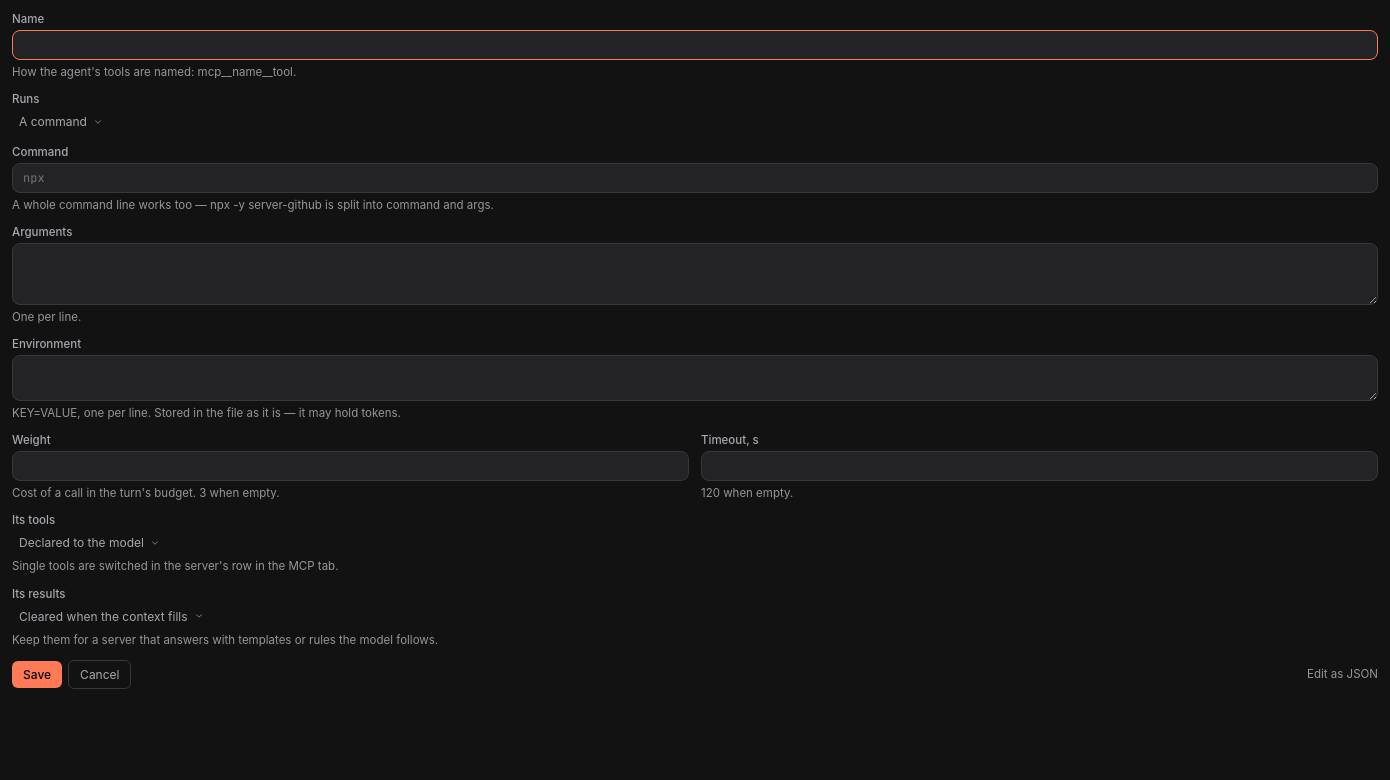
Scenario: the forms › a problem the form can see is shown, and nothing is saved
Type "fs" into the field labelled "Name How the agent's tools are named: mcp__name__tool." at (695, 45), box [12,30,1378,60]
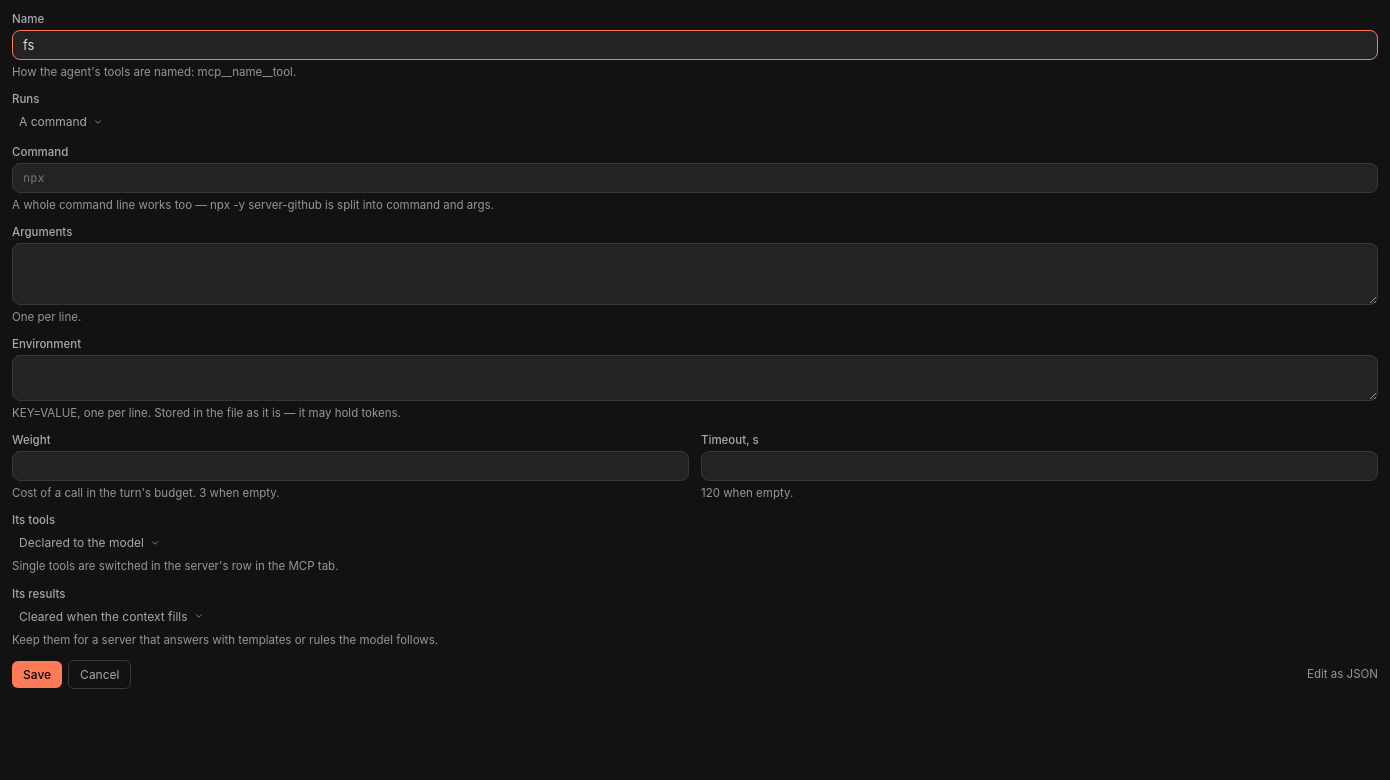
Type "x" into the field labelled "Command" at (695, 178), box [12,163,1378,193]
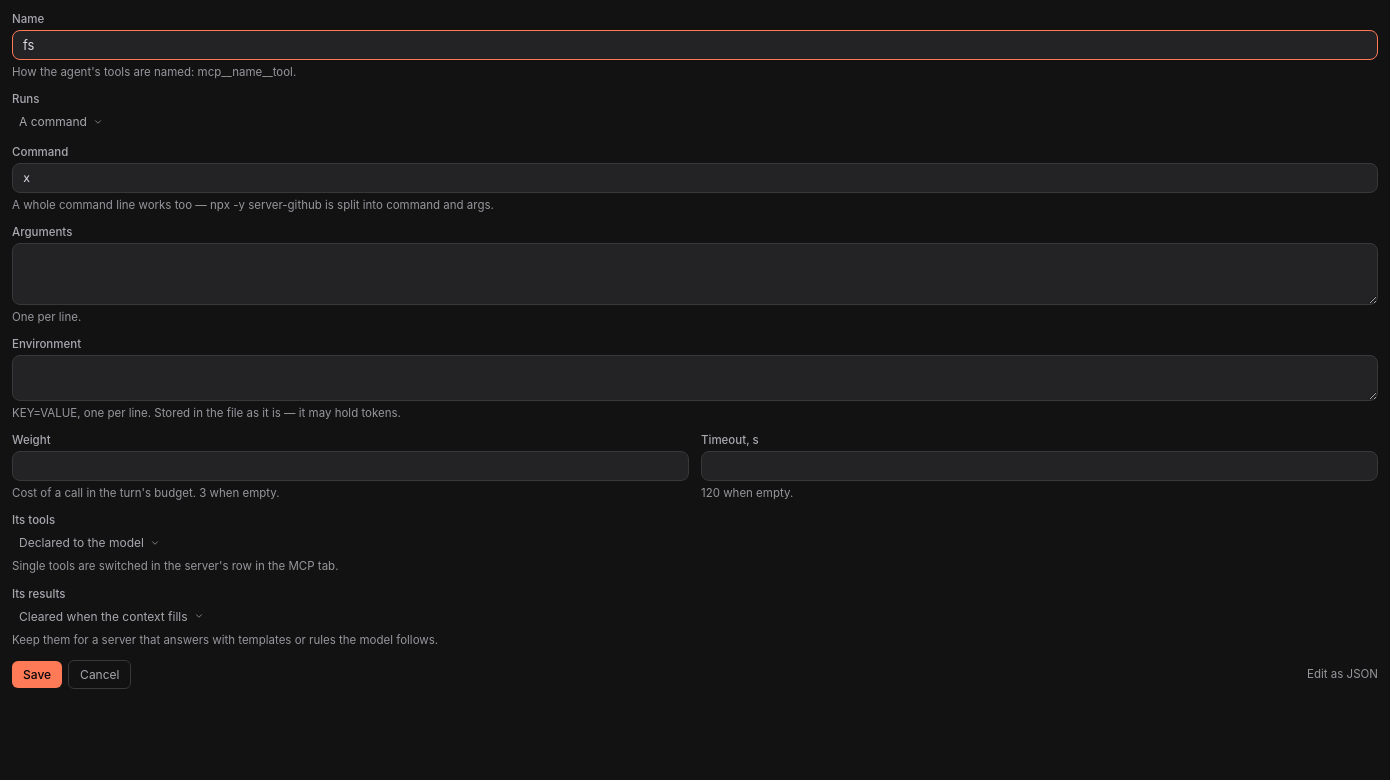
Click the button "Save" at (37, 674), box [12,661,62,688]
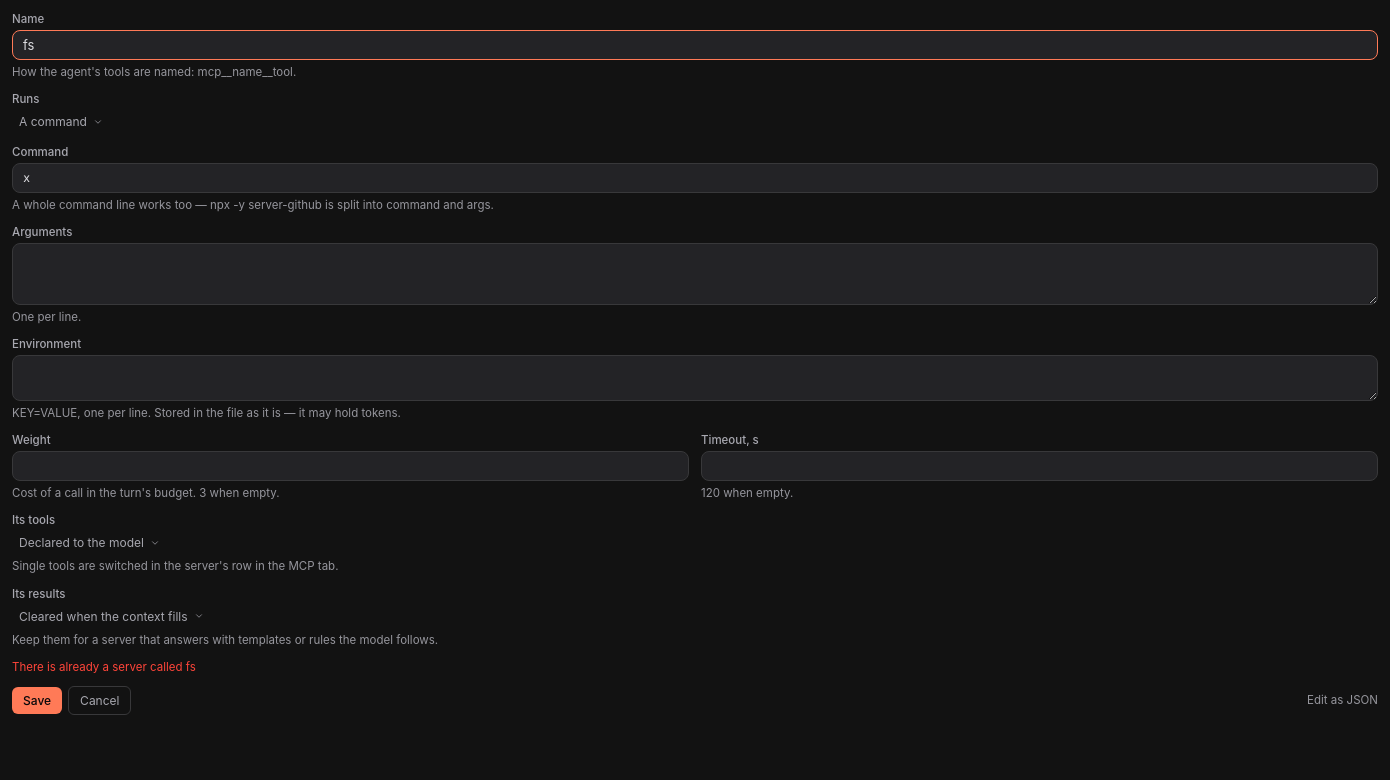
Expected: the text "There is already a server called fs" is shown, [12,660,196,674]
